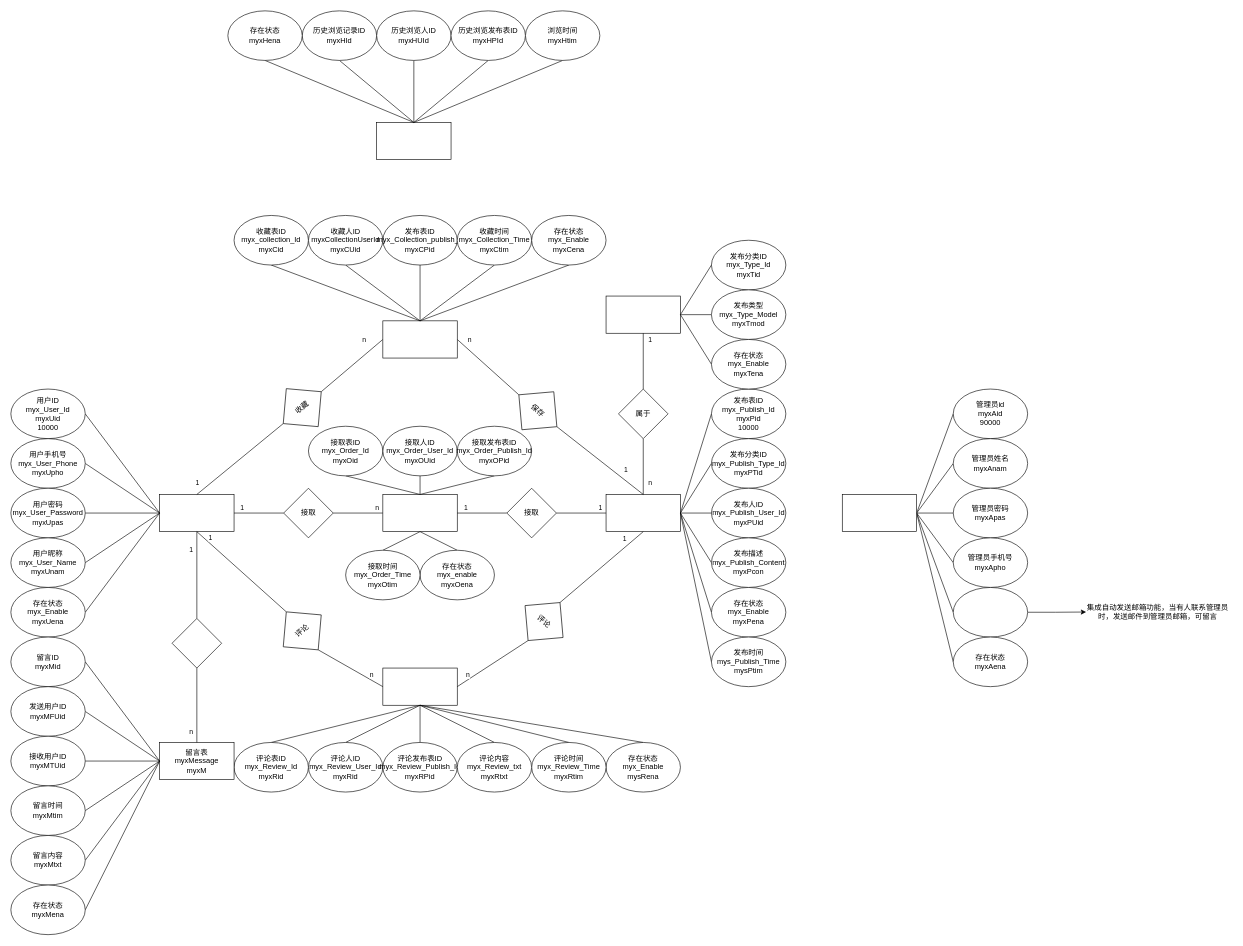
Some shapes in this 1243 by 946 pixel diagram are drawn without their labels. Here are the shapes that lost their labels. From the top down, the centre of each, then its label:
point (413, 141): 历史浏览记录 myxhistory myxH
point (642, 314): 发布分类 myx_Type myxT
point (419, 339): 收藏表 myxcollection myxC
point (196, 513): 用户表 myxUser myxU
point (419, 513): 接取表 myxOrder myxO
point (642, 513): 发布表 myx_publish myxP
point (879, 513): 管理员 myxAdmin myxA
point (990, 612): 管理员邮箱 myxAmai
point (196, 643): 留言
point (419, 686): 评论表 myx_Review myxR
